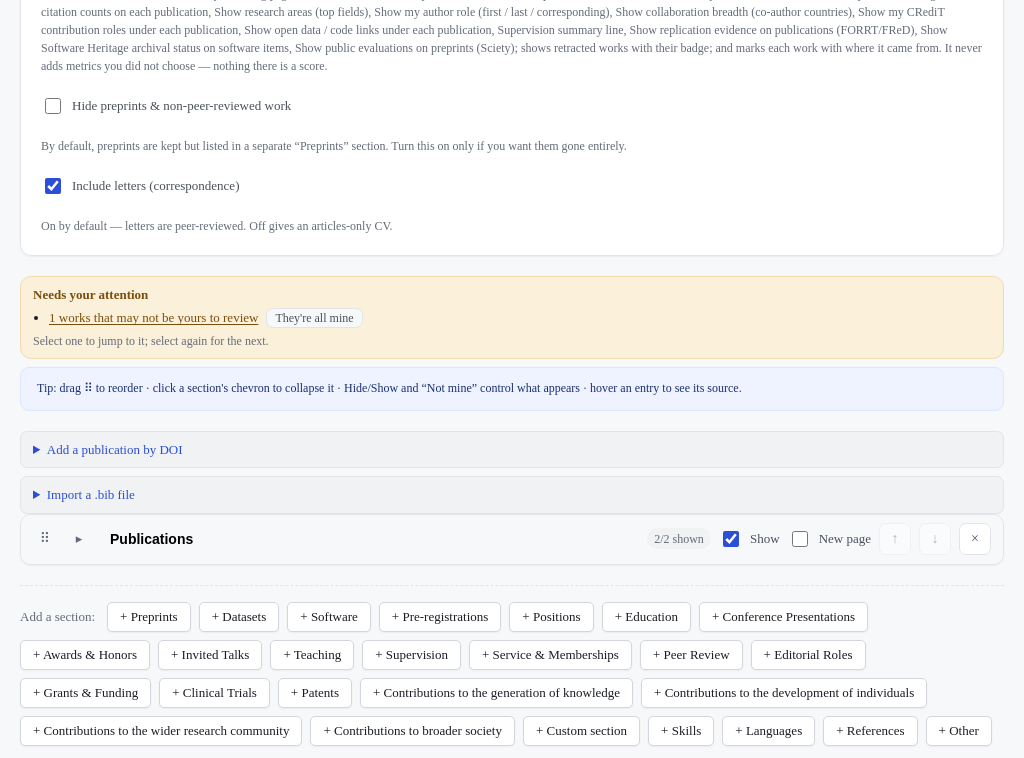
Test case: the anonymous preview keeps the doubt, and honours the owner's corrections › drops a work the researcher has already said is not theirs
This screenshot has width=1024, height=758.
(page scrolled)
Click the button with class "section-toggle": (79, 539) top-left (65, 525), bottom-right (93, 553)
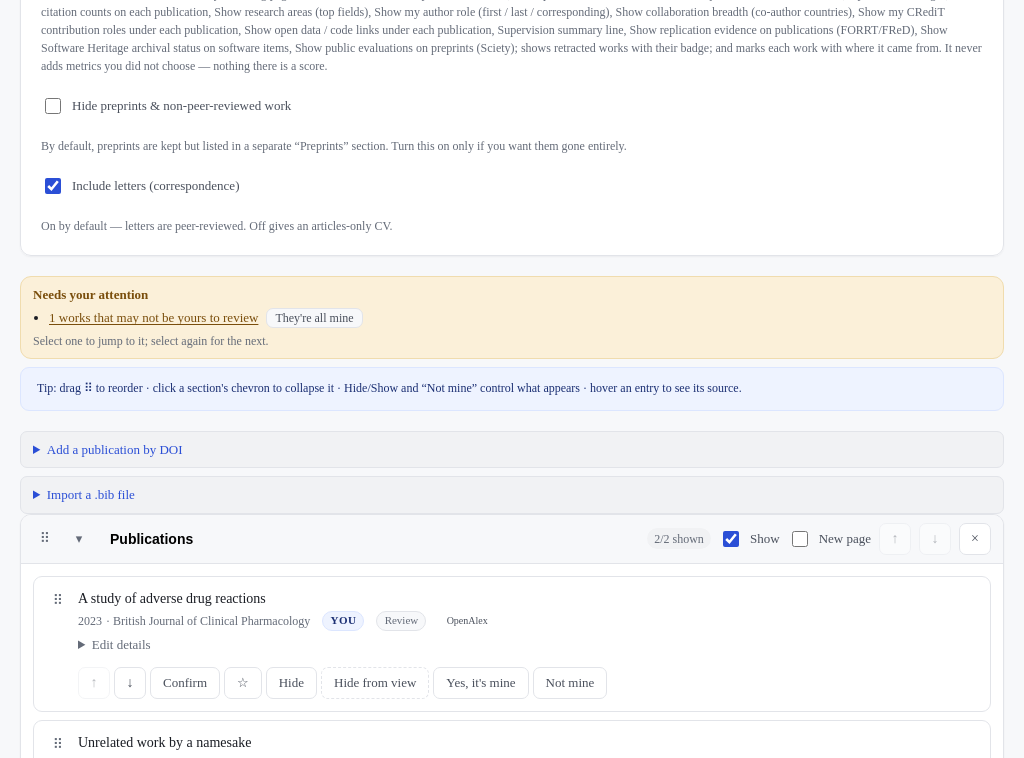
Expected: the text "Review" is shown, top-left (376, 611), bottom-right (426, 631)
